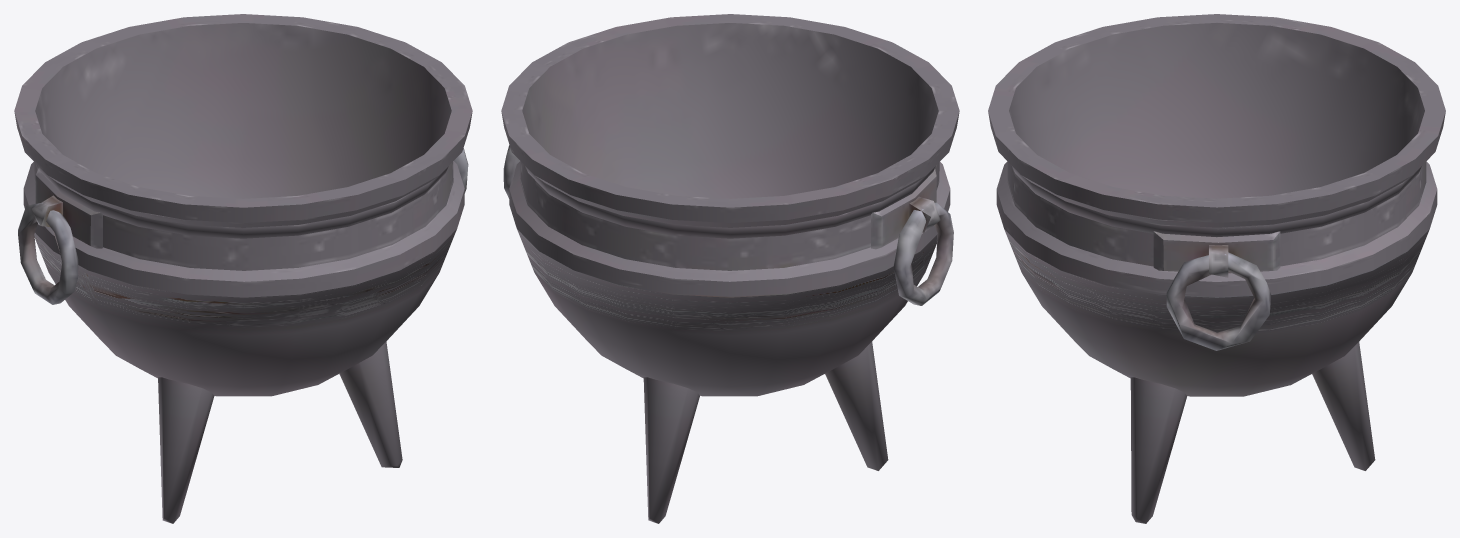
Rendered from Cauldron.gltf.
The picture shows the model from 3 angles, left to right: view 1: azimuth 30°, elevation 25°; view 2: azimuth 150°, elevation 25°; view 3: azimuth 270°, elevation 25°; orthographic projection.
Visible parts, largest first — view 1: Cauldron; view 2: Cauldron; view 3: Cauldron.
Part boxes in pixels (x1,y1,x2,y2): Cauldron: (14, 14, 472, 523); Cauldron: (501, 14, 959, 523); Cauldron: (988, 14, 1445, 523).
Bounding box in the file's own units: 0.9844 × 0.8112 × 0.9439.
Materials: 1 (1 with a texture image).
